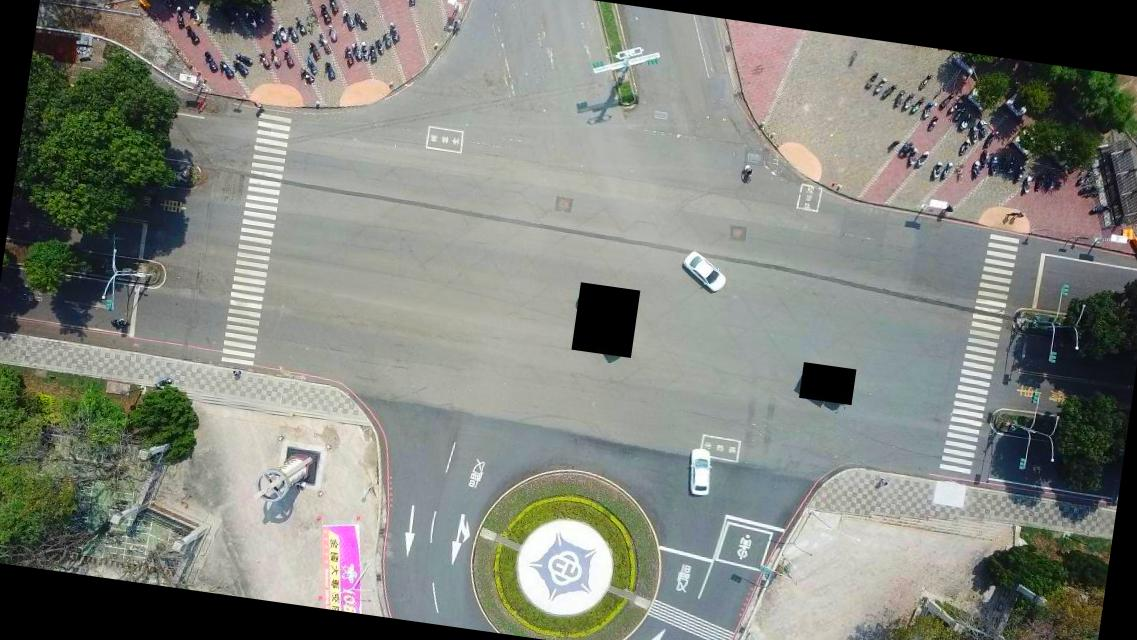vehicle: (678, 250, 730, 294), (684, 446, 717, 500)
